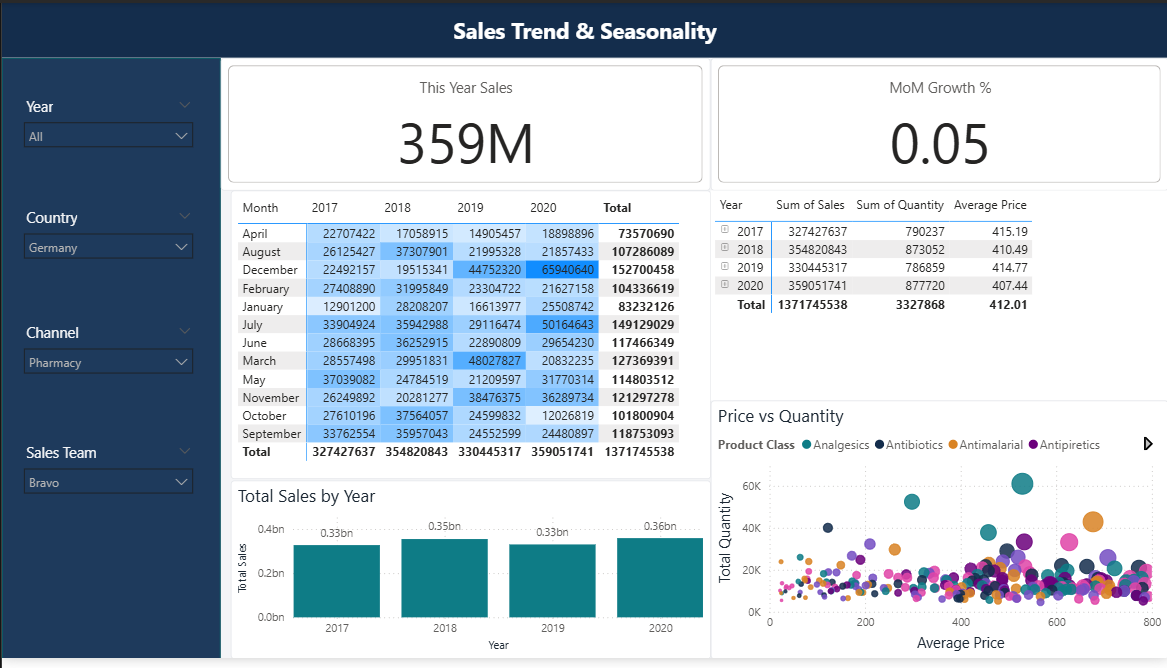

What the dashboard file says about the page in this screenshot:
{"tool":"powerbi","page":{"name":"Sales Trend & Seasonality","canvas":[1280,720],"ordinal":1},"visuals":[{"type":"shape","box":[0,0,1280.3,60],"z":0},{"type":"shape","box":[0,60.4,240,660],"z":1000},{"type":"slicer","fields":{"Values":["cleaned_pharma_sales.Year"]},"box":[13.7,97.4,205.8,90.6],"z":2000},{"type":"slicer","fields":{"Values":["cleaned_pharma_sales.Country"]},"box":[13.7,219.6,205.8,90.6],"z":3000},{"type":"slicer","fields":{"Values":["cleaned_pharma_sales.Channel"]},"box":[13.7,345.8,205.8,90.6],"z":4000},{"type":"slicer","fields":{"Values":["cleaned_pharma_sales.Sales Team"]},"box":[13.7,477.5,205.8,90.6],"z":5000},{"type":"cardVisual","fields":{"Data":["cleaned_pharma_sales.This Year Sales"]},"box":[240.1,60.4,537.9,145.5],"z":6000},{"type":"cardVisual","fields":{"Data":["cleaned_pharma_sales.MoM Growth %"]},"box":[778,60.4,502.2,145.5],"z":7000},{"type":"pivotTable","fields":{"Rows":["cleaned_pharma_sales.Month"],"Columns":["cleaned_pharma_sales.Year"],"Values":["cleaned_pharma_sales.Total Sales"]},"box":[251.1,205.8,526.9,317],"z":8000},{"type":"clusteredColumnChart","fields":{"Category":["cleaned_pharma_sales.Year"],"Y":["cleaned_pharma_sales.Total Sales"]},"box":[251.1,524.2,526.9,196.2],"z":9000},{"type":"pivotTable","fields":{"Rows":["cleaned_pharma_sales.Year","cleaned_pharma_sales.Month"],"Values":["Sum(cleaned_pharma_sales.Sales)","Sum(cleaned_pharma_sales.Quantity)","cleaned_pharma_sales.Average Price"]},"box":[778,205.8,502.2,230.5],"z":10000},{"type":"scatterChart","title":"Price vs Quantity","fields":{"X":["cleaned_pharma_sales.Average Price"],"Y":["cleaned_pharma_sales.Total Quantity"],"Series":["cleaned_pharma_sales.Product Class"],"Category":["cleaned_pharma_sales.Product Name"],"Size":["cleaned_pharma_sales.Total Sales"]},"box":[778,436.4,502.2,284],"z":11000}]}

Visuals, with their boxes in screenshot pixels (x1, y1, x2, y2), scaled from the page's 1280x720 canvas onto the 1167x668 screenshot:
shape: detection(0, 0, 1166, 56)
shape: detection(0, 56, 219, 667)
slicer - cleaned_pharma_sales.Year: detection(12, 90, 200, 174)
slicer - cleaned_pharma_sales.Country: detection(12, 204, 200, 288)
slicer - cleaned_pharma_sales.Channel: detection(12, 321, 200, 405)
slicer - cleaned_pharma_sales.Sales Team: detection(12, 443, 200, 527)
cardVisual - cleaned_pharma_sales.This Year Sales: detection(219, 56, 709, 191)
cardVisual - cleaned_pharma_sales.MoM Growth %: detection(709, 56, 1166, 191)
pivotTable - cleaned_pharma_sales.Month x cleaned_pharma_sales.Year: detection(229, 191, 709, 485)
clusteredColumnChart - cleaned_pharma_sales.Year x cleaned_pharma_sales.Total Sales: detection(229, 486, 709, 667)
pivotTable - cleaned_pharma_sales.Year x cleaned_pharma_sales.Month: detection(709, 191, 1166, 405)
"Price vs Quantity" scatterChart: detection(709, 405, 1166, 667)
